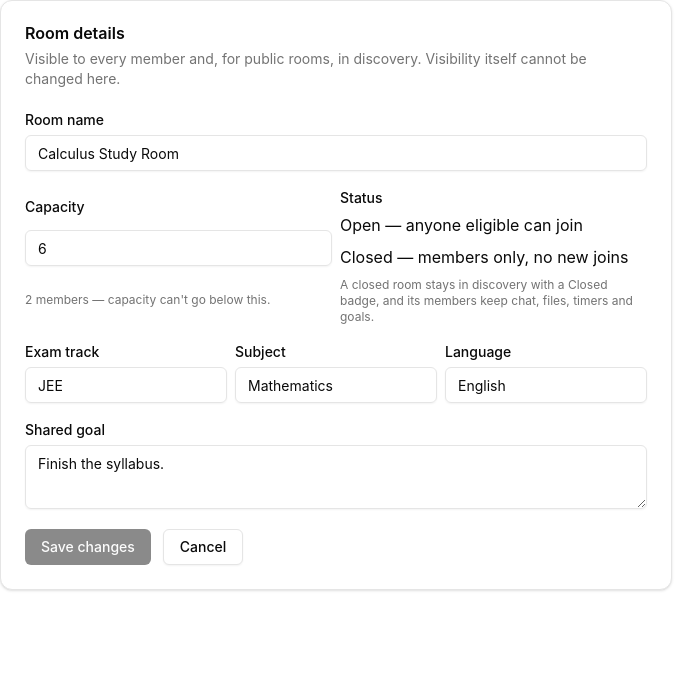
Test: RoomSettingsForm › maps server-side field issues onto their fields
Replace the text in the field labelled "Room name" with "New" at (336, 153), box [25,135,647,171]
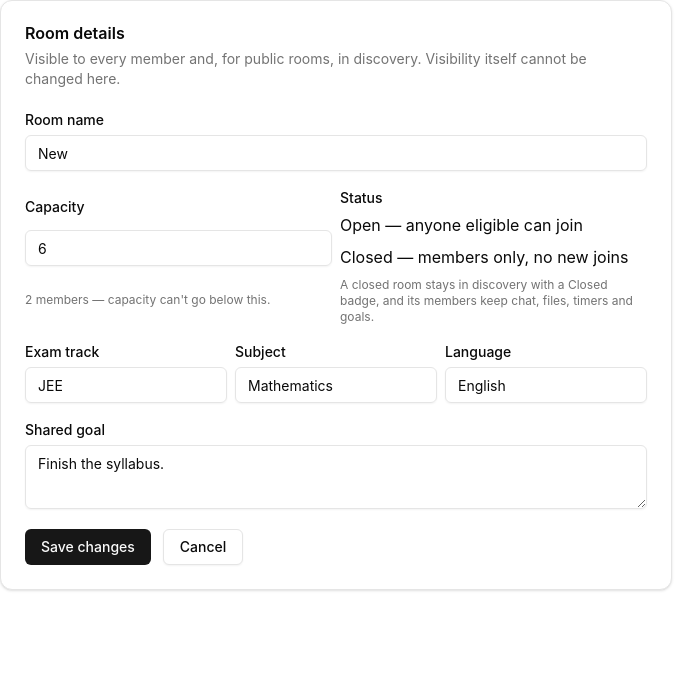
Click the button "Save changes".
click(88, 547)  # box [25,529,151,565]
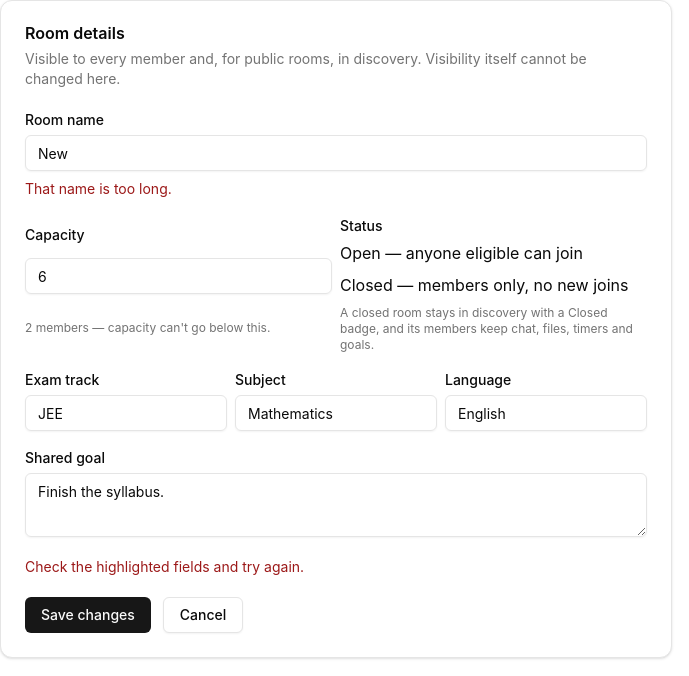
Expected: the text "That name is too long." is shown, [25,180,172,197]
